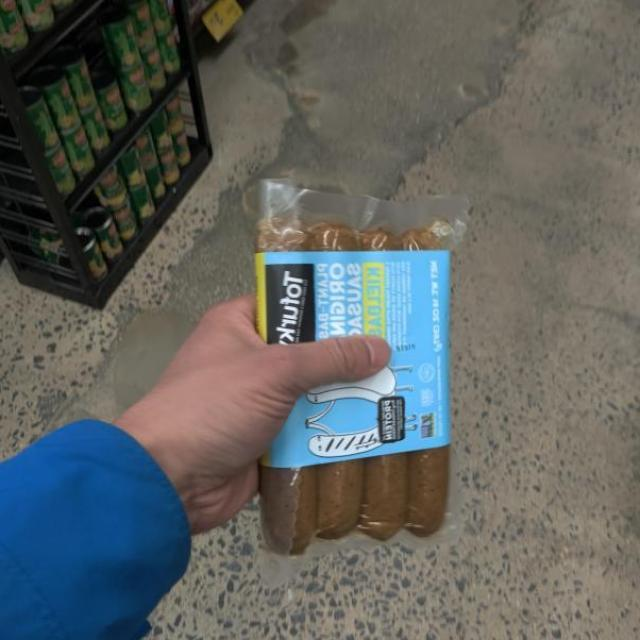Meat: (234, 173, 471, 563)
